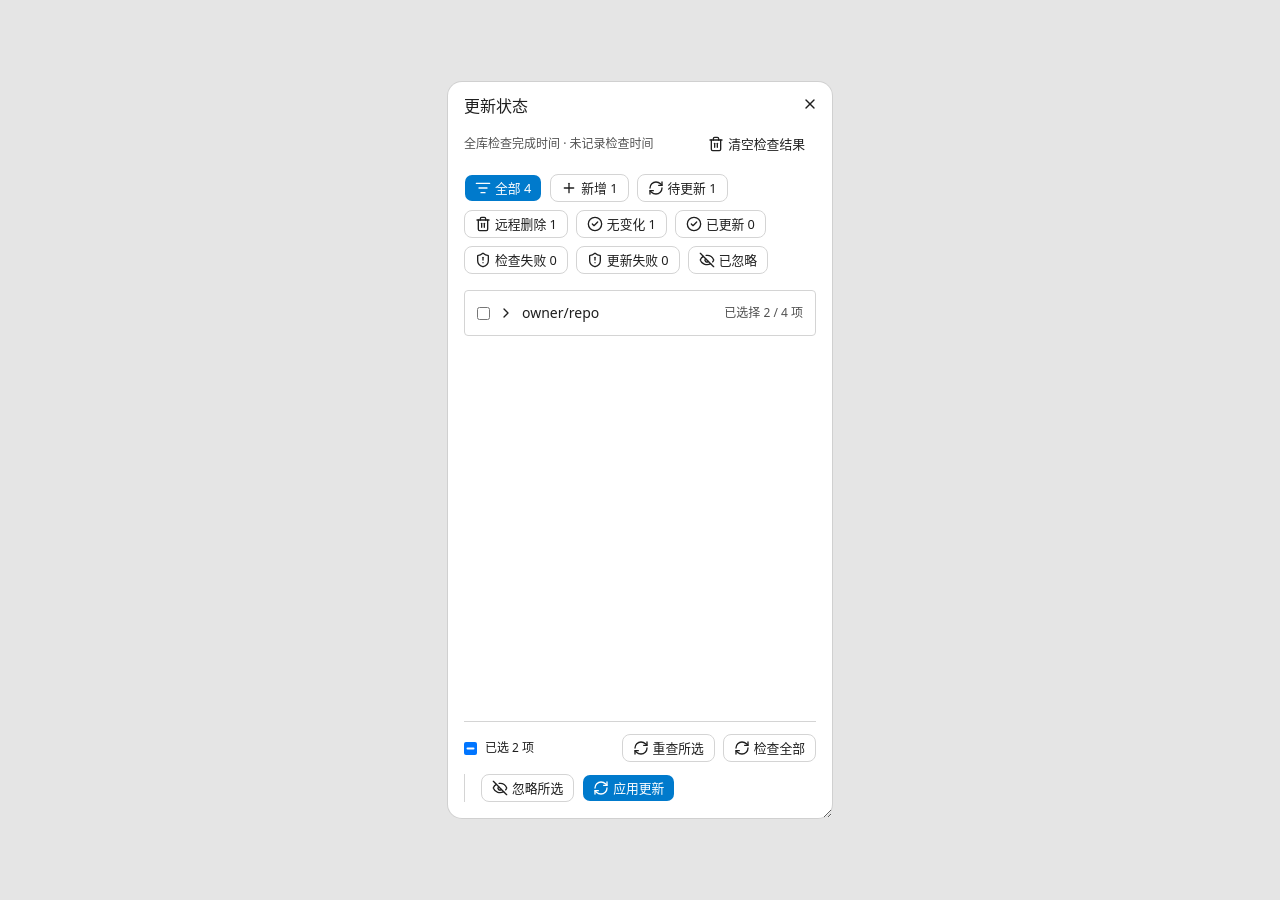
Test case: selects added and modified skills, keeps remote deletions opt-in and removes successes
Click the button "owner/repo 已选择 2 / 4 项" at coordinates (561, 312), box top-left (498, 303), bottom-right (803, 323)
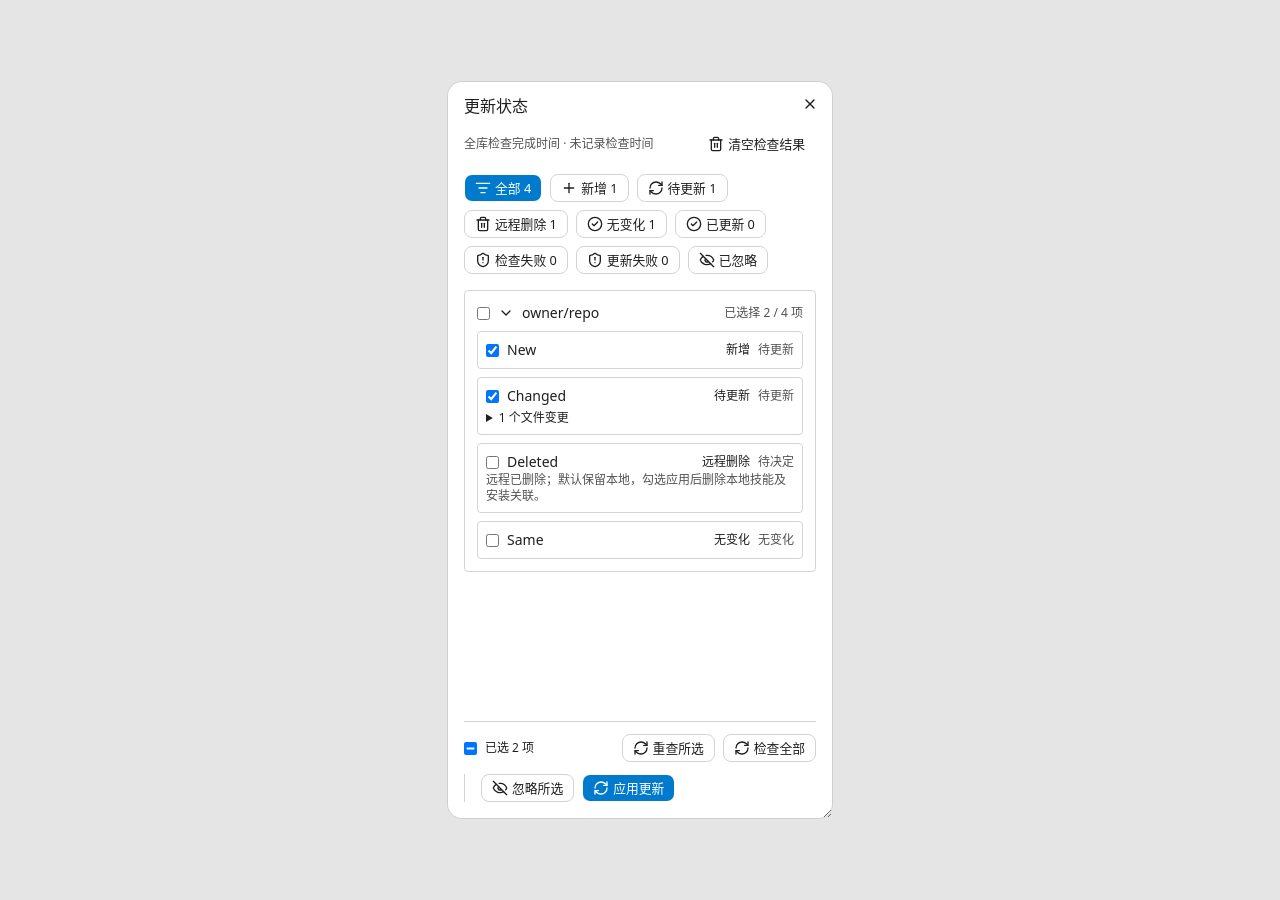
Click the button "应用更新" at coordinates (629, 788), box top-left (582, 774), bottom-right (675, 802)
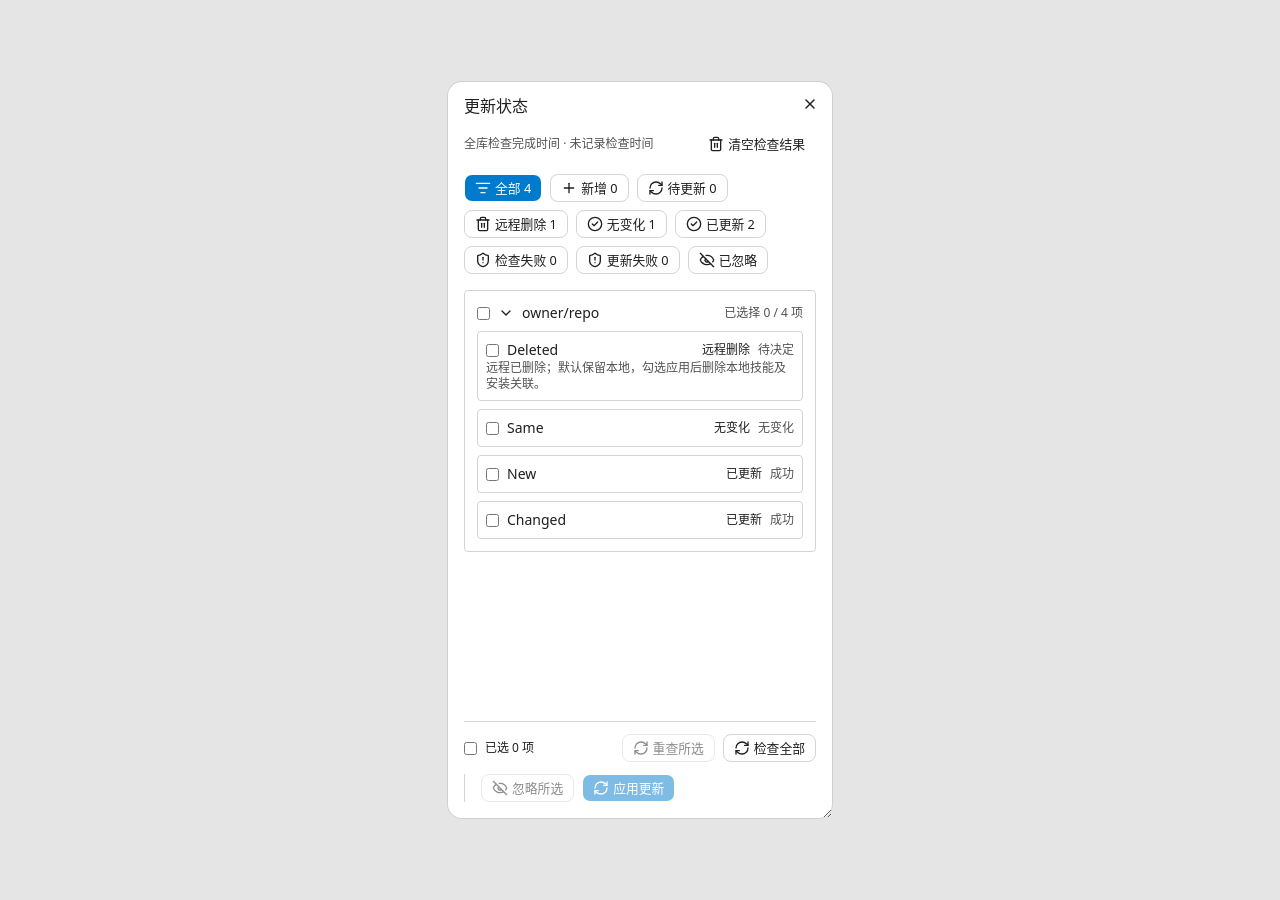
Click the button "已更新 2" at coordinates (720, 224), box top-left (675, 210), bottom-right (766, 238)
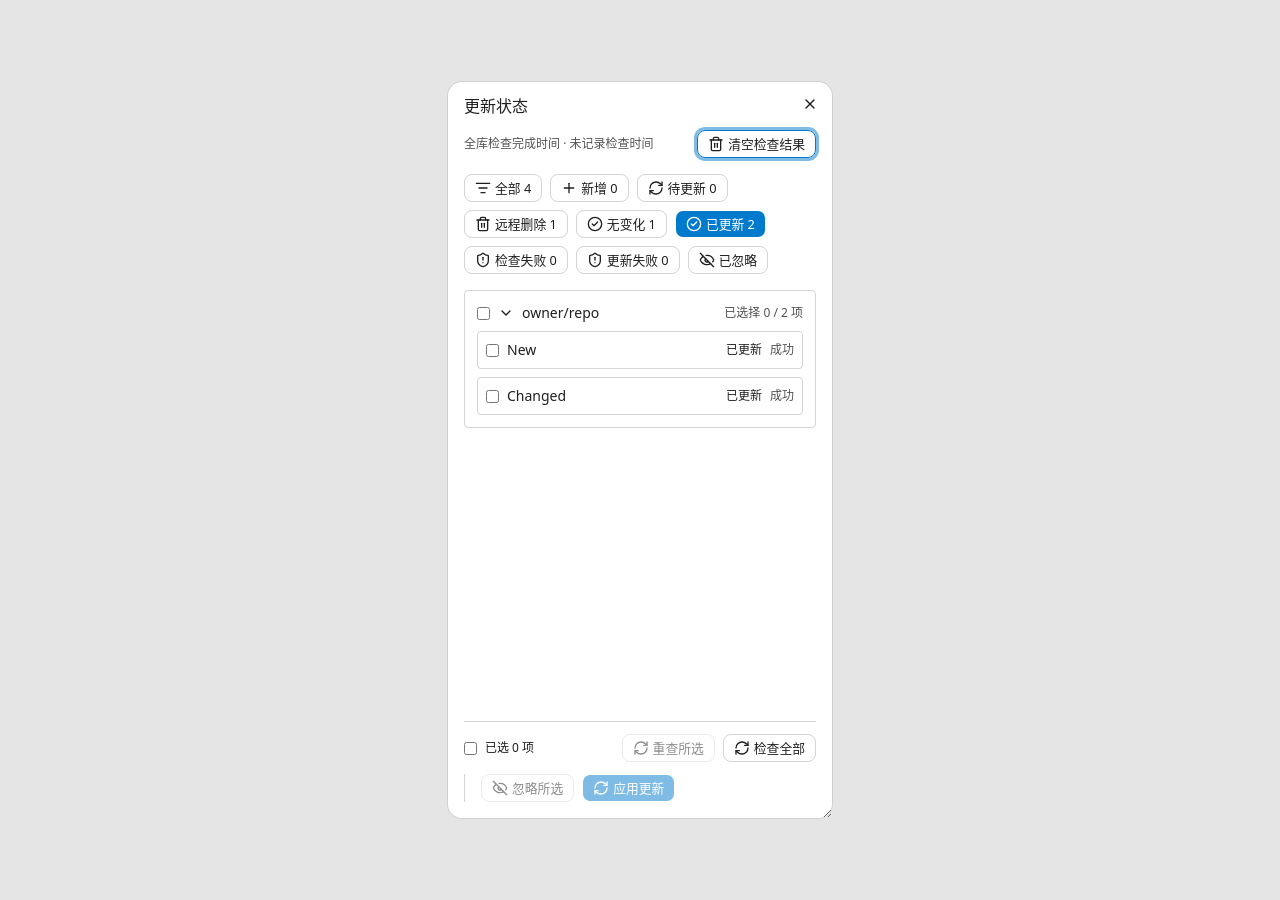
Check: the text "Changed" is shown, box top-left (507, 386), bottom-right (566, 406)
Check: the button "应用更新" is disabled, box top-left (582, 774), bottom-right (675, 802)
Check: the text "Same" is gone
